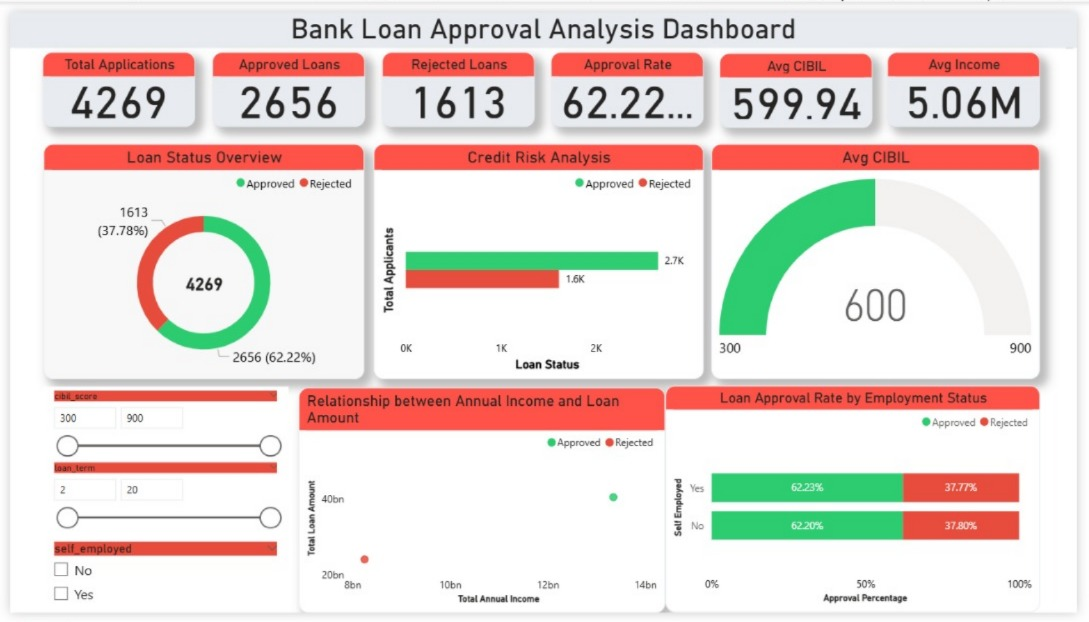

This screenshot's page, from the dashboard's own definition file:
{"tool":"powerbi","page":{"name":"Page 1","canvas":[1280,720],"ordinal":0},"visuals":[{"type":"textbox","title":"Bank Loan Approval Analysis Dashboard","box":[0,0,1280.2,47.8],"z":0},{"type":"card","title":"Total Applications","fields":{"Values":["calculated measure.Total Applications"]},"box":[39.3,47.7,183.6,89.4],"z":1000},{"type":"card","title":"Approved Loans","fields":{"Values":["calculated measure.Approved Loans"]},"box":[242,47.7,183.6,89.4],"z":2000},{"type":"card","title":"Rejected Loans","fields":{"Values":["calculated measure.Rejected Loans"]},"box":[445.8,47.7,183.6,89.4],"z":3000},{"type":"card","title":"Approval Rate","fields":{"Values":["calculated measure.Approval Rate"]},"box":[648.5,47.7,183.6,89.4],"z":4000},{"type":"card","title":"Avg CIBIL","fields":{"Values":["calculated measure.Avg CIBIL"]},"box":[851.1,48.9,183.6,89.4],"z":5000},{"type":"card","title":"Avg Income","fields":{"Values":["calculated measure.Avg Income"]},"box":[1052.6,47.7,183.6,89.4],"z":6000},{"type":"donutChart","title":"Loan Status Overview","fields":{"Category":["loan_project loan_approval_dataset.loan_status"],"Y":["CountNonNull(loan_project loan_approval_dataset.loan_id)"]},"box":[40.5,157.3,385,282.5],"z":7000},{"type":"clusteredBarChart","title":"Credit Risk Analysis","fields":{"Y":["CountNonNull(loan_project loan_approval_dataset.loan_id)"],"Series":["loan_project loan_approval_dataset.loan_status"]},"box":[436.3,157.3,395.8,282.5],"z":8000},{"type":"gauge","fields":{"Y":["calculated measure.Avg CIBIL"]},"box":[841.6,157.4,394.6,282.1],"z":9000},{"type":"scatterChart","title":"Relationship between Annual Income and Loan Amount","fields":{"X":["Sum(loan_project loan_approval_dataset.income_annum)"],"Y":["Sum(loan_project loan_approval_dataset.loan_amount)"],"Series":["loan_project loan_approval_dataset.loan_status"]},"box":[333.8,448.2,438.7,271.8],"z":10000},{"type":"card","fields":{"Values":["calculated measure.Total Applications"]},"box":[193.1,290.9,81.1,69.1],"z":11000},{"type":"hundredPercentStackedBarChart","title":"Loan Approval Rate by Employment Status","fields":{"Category":["loan_project loan_approval_dataset.self_employed"],"Y":["CountNonNull(loan_project loan_approval_dataset.loan_id)"],"Series":["loan_project loan_approval_dataset.loan_status"]},"box":[786.3,448,449.8,271.8],"z":12000},{"type":"slicer","fields":{"Values":["loan_project loan_approval_dataset.cibil_score"]},"box":[40.5,448.2,293.2,87],"z":13000},{"type":"slicer","fields":{"Values":["loan_project loan_approval_dataset.loan_term"]},"box":[40.5,535.2,293.2,94.2],"z":14000},{"type":"slicer","fields":{"Values":["loan_project loan_approval_dataset.self_employed"]},"box":[40.5,629.4,293.2,90.6],"z":15000}]}

Visuals, with their boxes in screenshot pixels (x1, y1, x2, y2), scaled from the page's 1280x720 canvas onto the 1089x622 screenshot:
"Bank Loan Approval Analysis Dashboard" textbox: (x1=0, y1=0, x2=1088, y2=41)
"Total Applications" card: (x1=33, y1=41, x2=190, y2=118)
"Approved Loans" card: (x1=206, y1=41, x2=362, y2=118)
"Rejected Loans" card: (x1=379, y1=41, x2=535, y2=118)
"Approval Rate" card: (x1=552, y1=41, x2=708, y2=118)
"Avg CIBIL" card: (x1=724, y1=42, x2=880, y2=119)
"Avg Income" card: (x1=896, y1=41, x2=1052, y2=118)
"Loan Status Overview" donutChart: (x1=34, y1=136, x2=362, y2=380)
"Credit Risk Analysis" clusteredBarChart: (x1=371, y1=136, x2=708, y2=380)
gauge - calculated measure.Avg CIBIL: (x1=716, y1=136, x2=1052, y2=380)
"Relationship between Annual Income and Loan Amount" scatterChart: (x1=284, y1=387, x2=657, y2=621)
card - calculated measure.Total Applications: (x1=164, y1=251, x2=233, y2=311)
"Loan Approval Rate by Employment Status" hundredPercentStackedBarChart: (x1=669, y1=387, x2=1052, y2=621)
slicer - loan_project loan_approval_dataset.cibil_score: (x1=34, y1=387, x2=284, y2=462)
slicer - loan_project loan_approval_dataset.loan_term: (x1=34, y1=462, x2=284, y2=544)
slicer - loan_project loan_approval_dataset.self_employed: (x1=34, y1=544, x2=284, y2=621)
